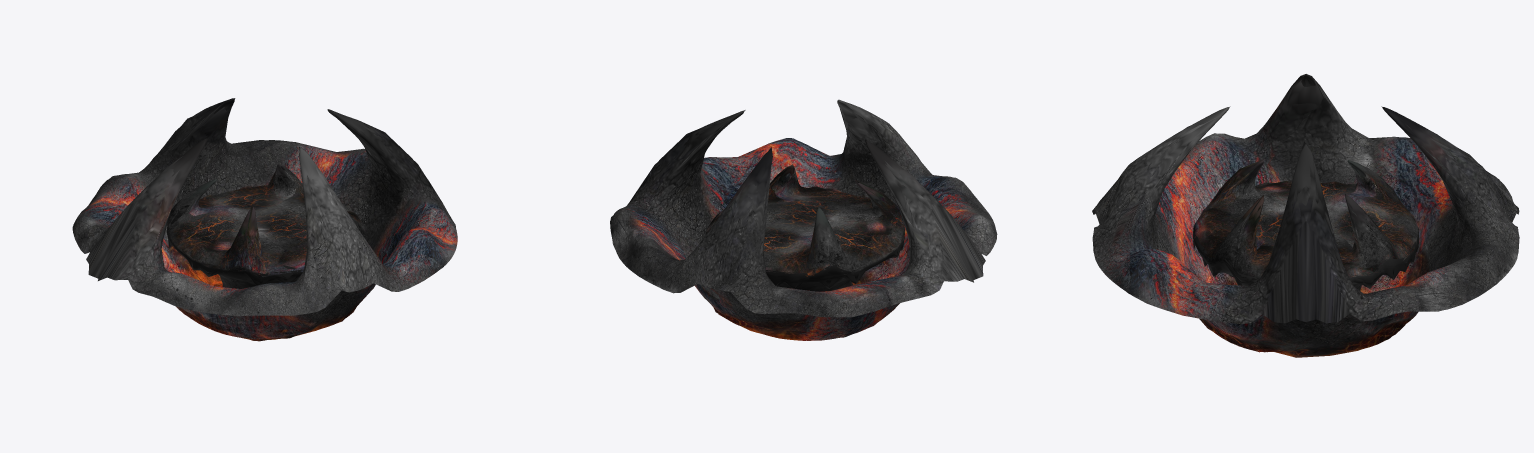
The model's file is arena.glb.
The picture shows the model from 3 angles, left to right: view 1: azimuth 30°, elevation 25°; view 2: azimuth 150°, elevation 25°; view 3: azimuth 270°, elevation 25°; orthographic projection. The views are drawn at different scales.
Parts seen in each view (by area): view 1: stone_7, stone2_9, stone1_8; view 2: stone_7, stone2_9, stone1_8; view 3: stone_7, stone2_9, stone1_8.
Part boxes in pixels (left/top/right/bottom): stone_7: left=72, top=98, right=457, bottom=340; stone2_9: left=72, top=98, right=456, bottom=339; stone1_8: left=73, top=98, right=457, bottom=341; stone_7: left=610, top=100, right=996, bottom=340; stone2_9: left=610, top=100, right=997, bottom=340; stone1_8: left=610, top=100, right=996, bottom=340; stone_7: left=1093, top=74, right=1519, bottom=356; stone2_9: left=1092, top=74, right=1518, bottom=357; stone1_8: left=1092, top=74, right=1519, bottom=356.
Size of the model in its own units: 8.4 by 5.02 by 8.08.
Materials: 3 (2 with a texture image).
